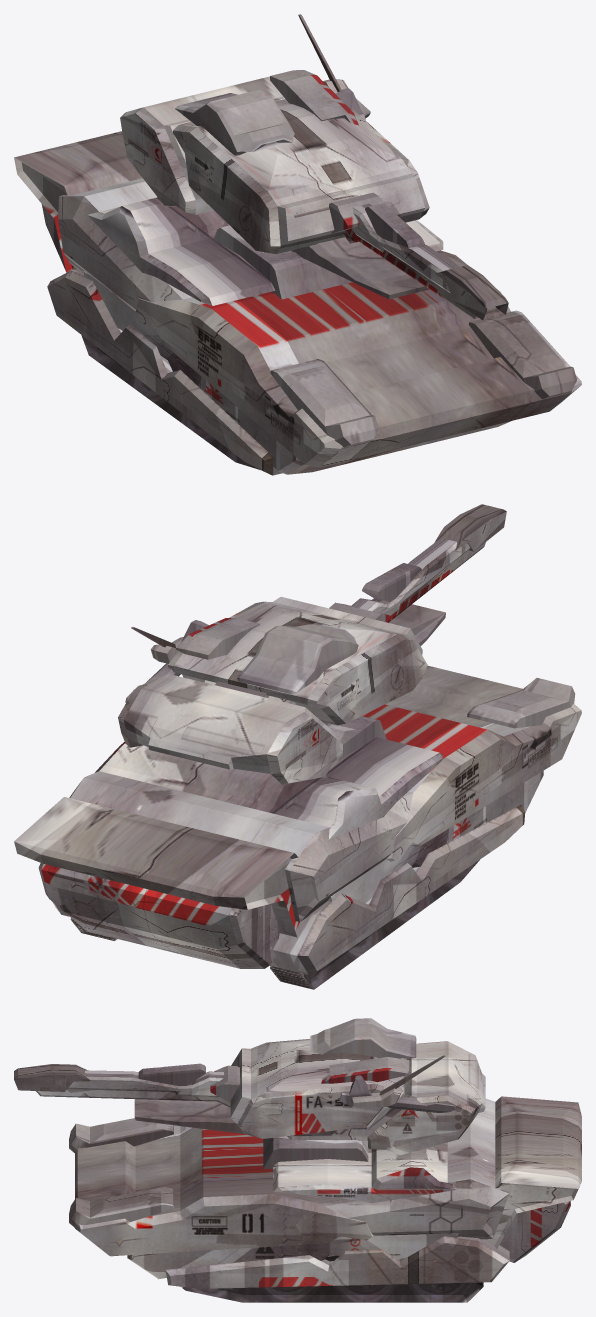
The model's file is Enemy_Tank_04.FBX.
3 views of the same model, one above another, from view 1: azimuth 30°, elevation 25°; view 2: azimuth 150°, elevation 25°; view 3: azimuth 270°, elevation 25° (orthographic). The views are drawn at different scales.
Parts seen in each view (by area): view 1: body, Gun; view 2: body, Gun; view 3: body, Gun.
Boxes of the visible parts, left/top/right/bottom form: body: left=14, top=131, right=581, bottom=475; Gun: left=120, top=14, right=508, bottom=320; body: left=14, top=665, right=581, bottom=989; Gun: left=118, top=504, right=506, bottom=784; body: left=69, top=1096, right=581, bottom=1302; Gun: left=14, top=1018, right=485, bottom=1154.
Size of the model in its own units: 21.14 by 23.43 by 51.69.
